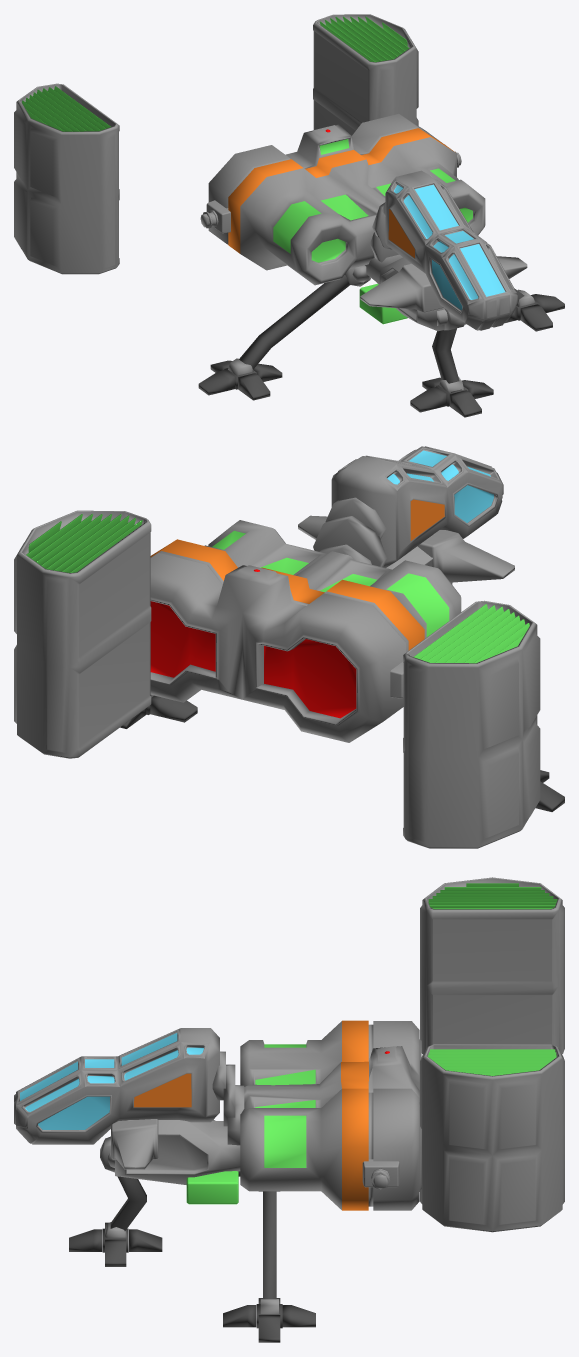
The model's file is spaceship.fbx.
The picture shows the model from 3 angles, top to bottom: view 1: azimuth 30°, elevation 25°; view 2: azimuth 150°, elevation 25°; view 3: azimuth 270°, elevation 25°; orthographic projection. The views are drawn at different scales.
Parts seen in each view (by area): view 1: spaceship, motor_right, motor_left; view 2: spaceship, motor_right, motor_left; view 3: spaceship, motor_left, motor_right.
Part boxes in pixels (x1,y1,x2,y2): spaceship: (198,114,564,417); motor_right: (14,83,119,274); motor_left: (313,14,418,135); spaceship: (120,446,564,811); motor_right: (403,600,540,848); motor_left: (14,510,151,758); spaceship: (14,1020,421,1342); motor_left: (420,1044,564,1232); motor_right: (420,877,564,1054).
Size of the model in its own units: 39.66 by 18.94 by 40.03.
